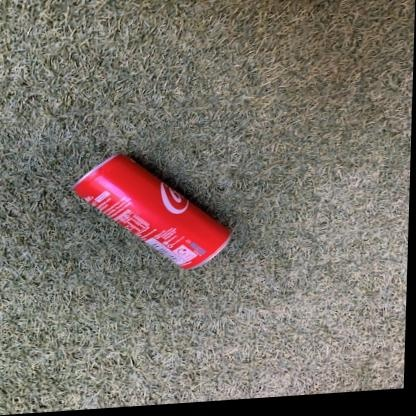trash: (73, 154, 229, 268)
